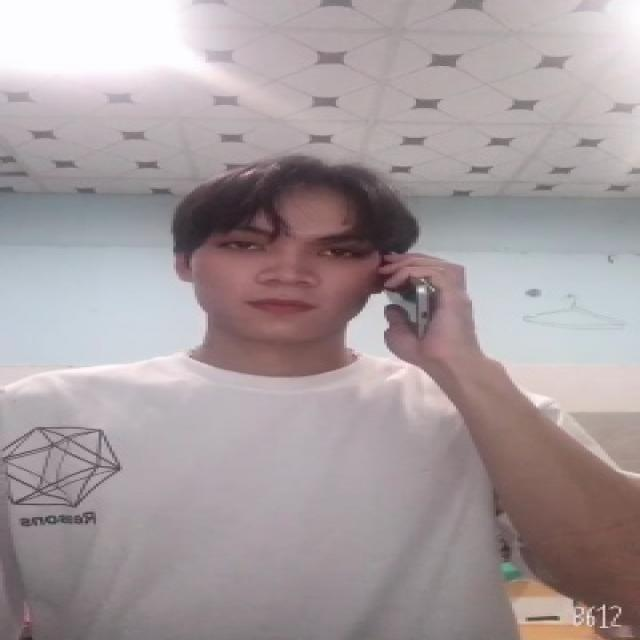Phone: (376, 244, 437, 344)
